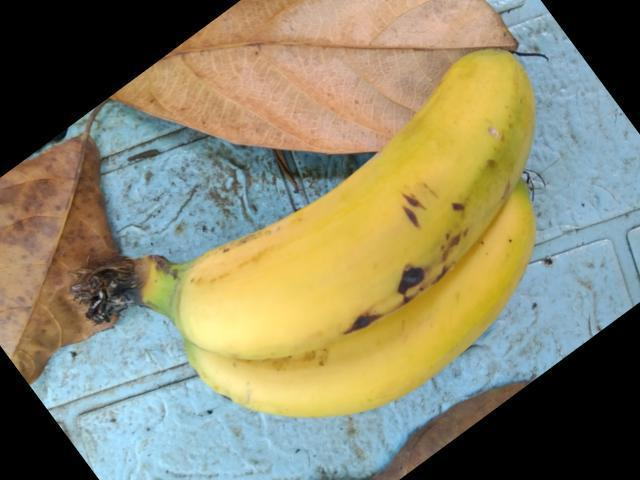ripe: (145, 47, 532, 375)
